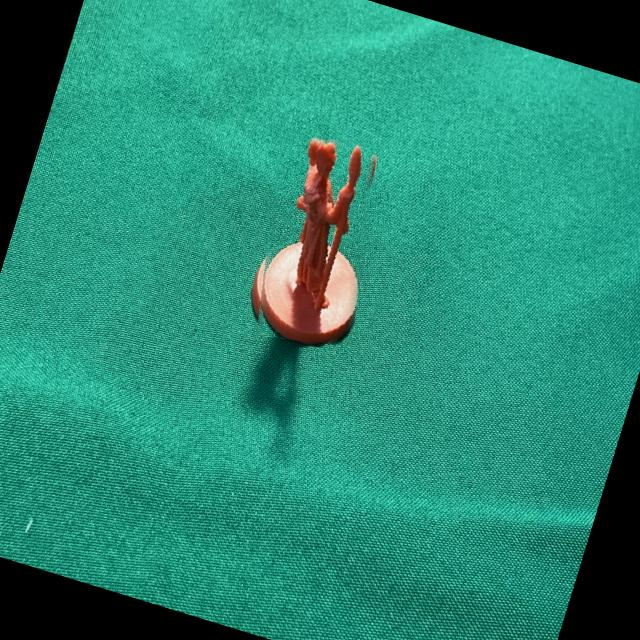amon_follower: (260, 138, 361, 344)
